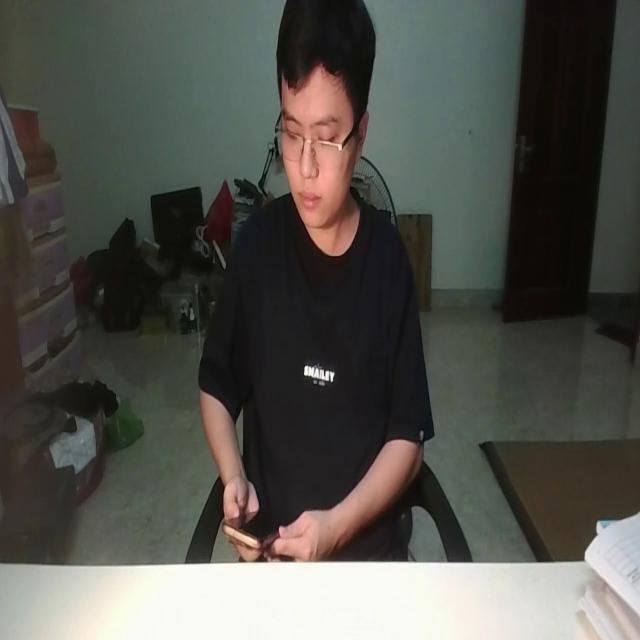phone: (220, 502, 284, 553)
student: (198, 0, 430, 640)
